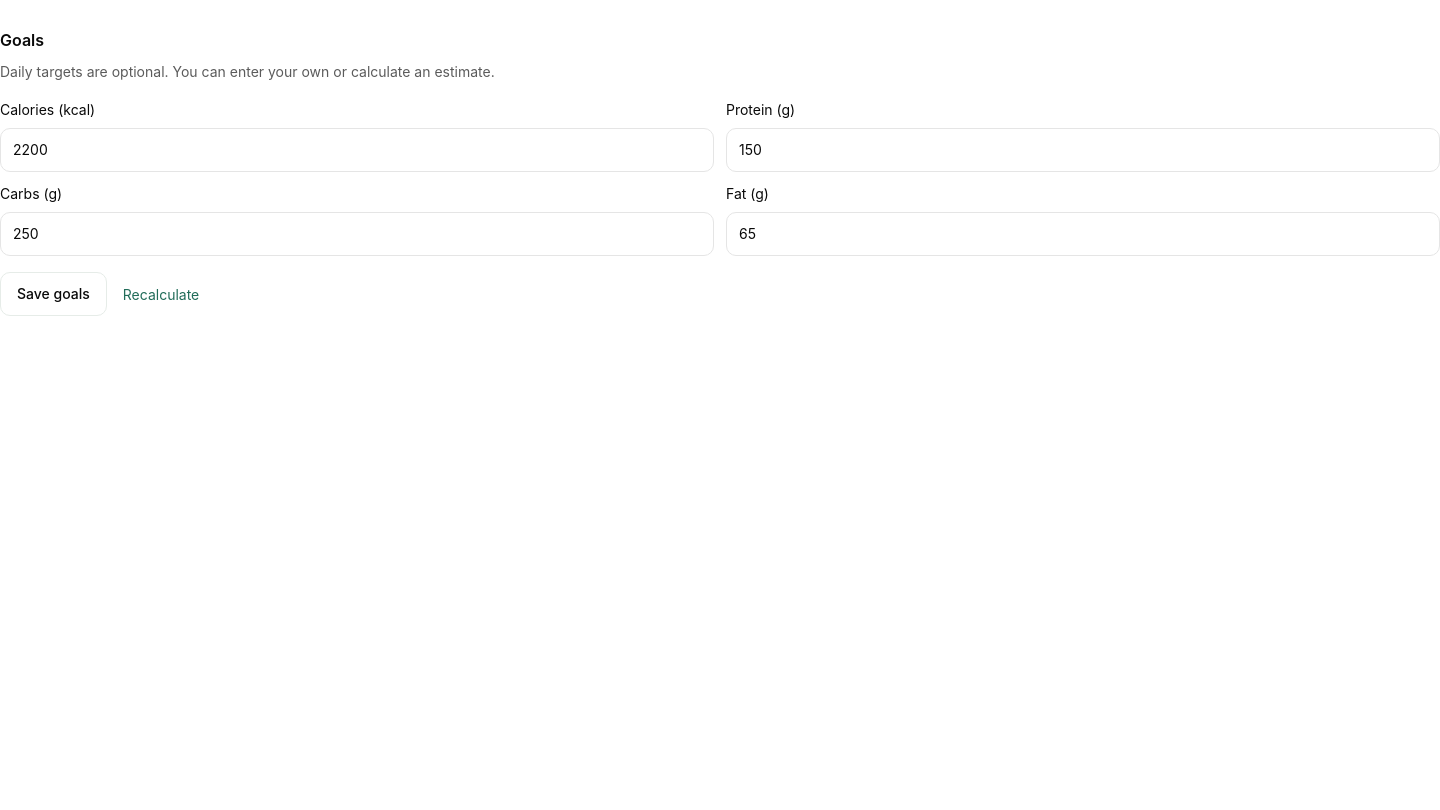
reviews a calculated suggestion without saving targets automatically
This screenshot has width=1440, height=810.
Click the button "Recalculate" at point(161, 294), box x1=119 y1=272 x2=203 y2=316
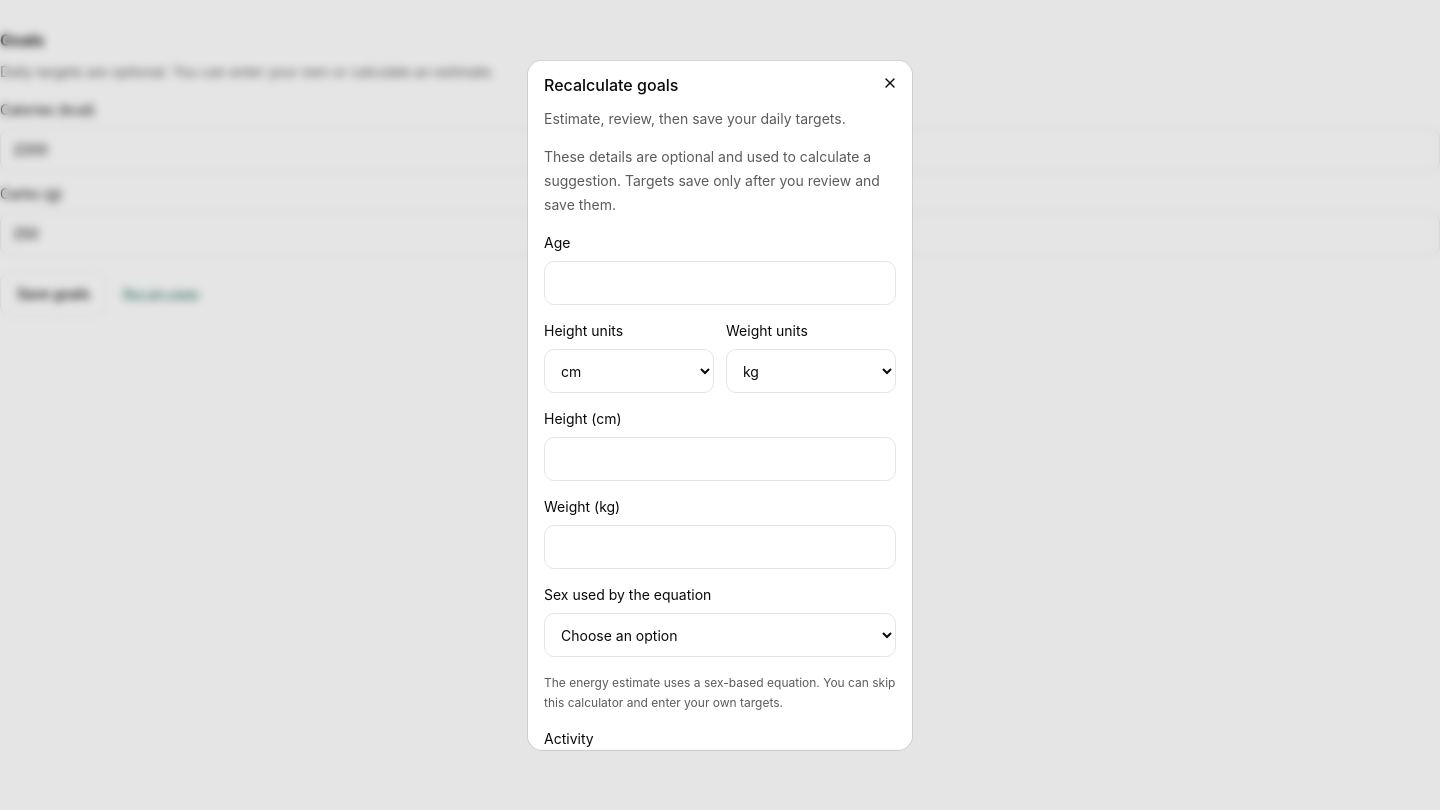
Type "30" into the number field labelled "Age" at point(720, 283), box x1=544 y1=261 x2=896 y2=305
Type "175" into the number field labelled "Height (cm)" at point(720, 459), box x1=544 y1=437 x2=896 y2=481
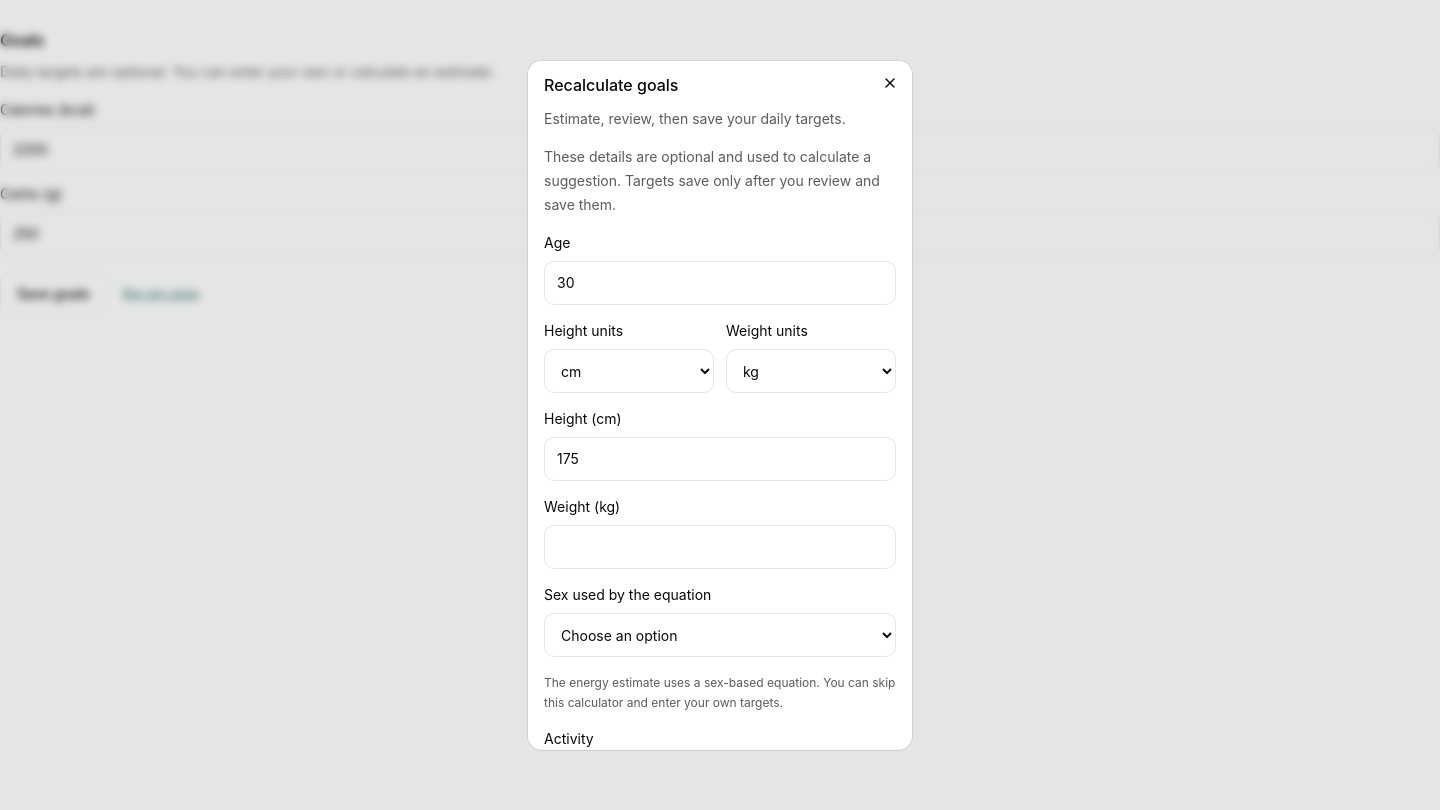
Type "75" into the number field labelled "Weight" at point(720, 547), box x1=544 y1=525 x2=896 y2=569
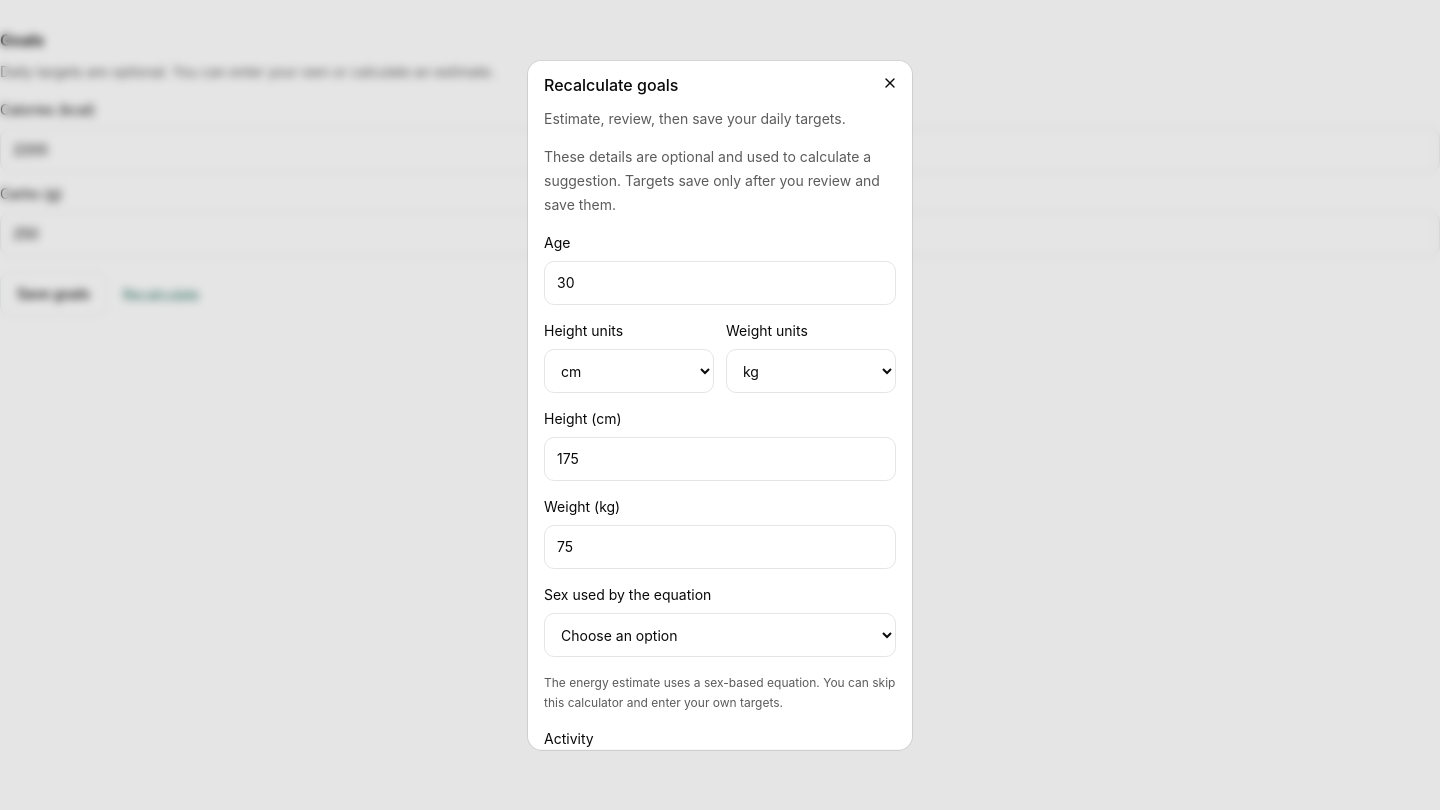
Select "Male" in the dropdown labelled "Sex used by the equation" at point(720, 635), box x1=544 y1=613 x2=896 y2=657
(page scrolled)
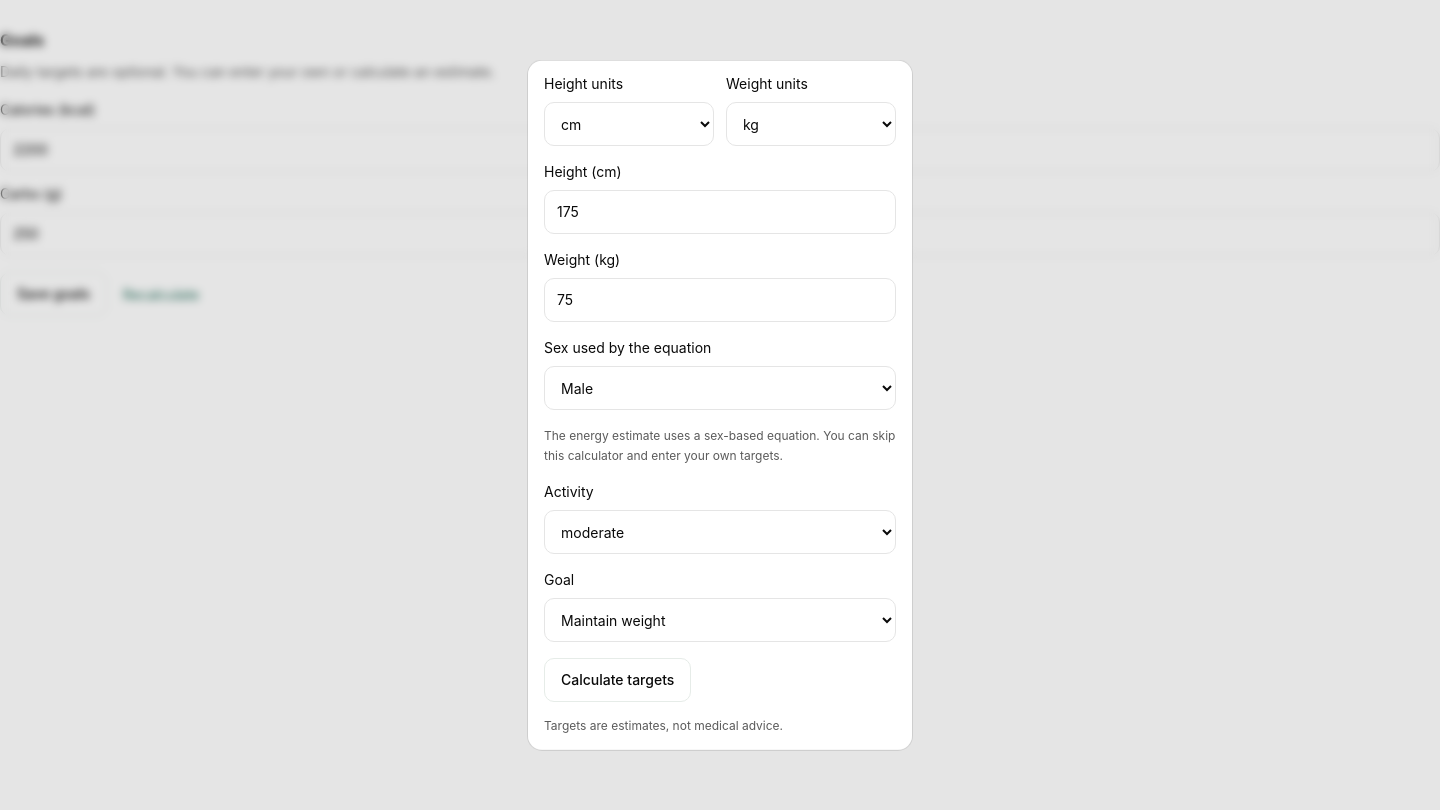
Click the button "Calculate targets" at point(618, 680), box x1=544 y1=658 x2=691 y2=702
(page scrolled)
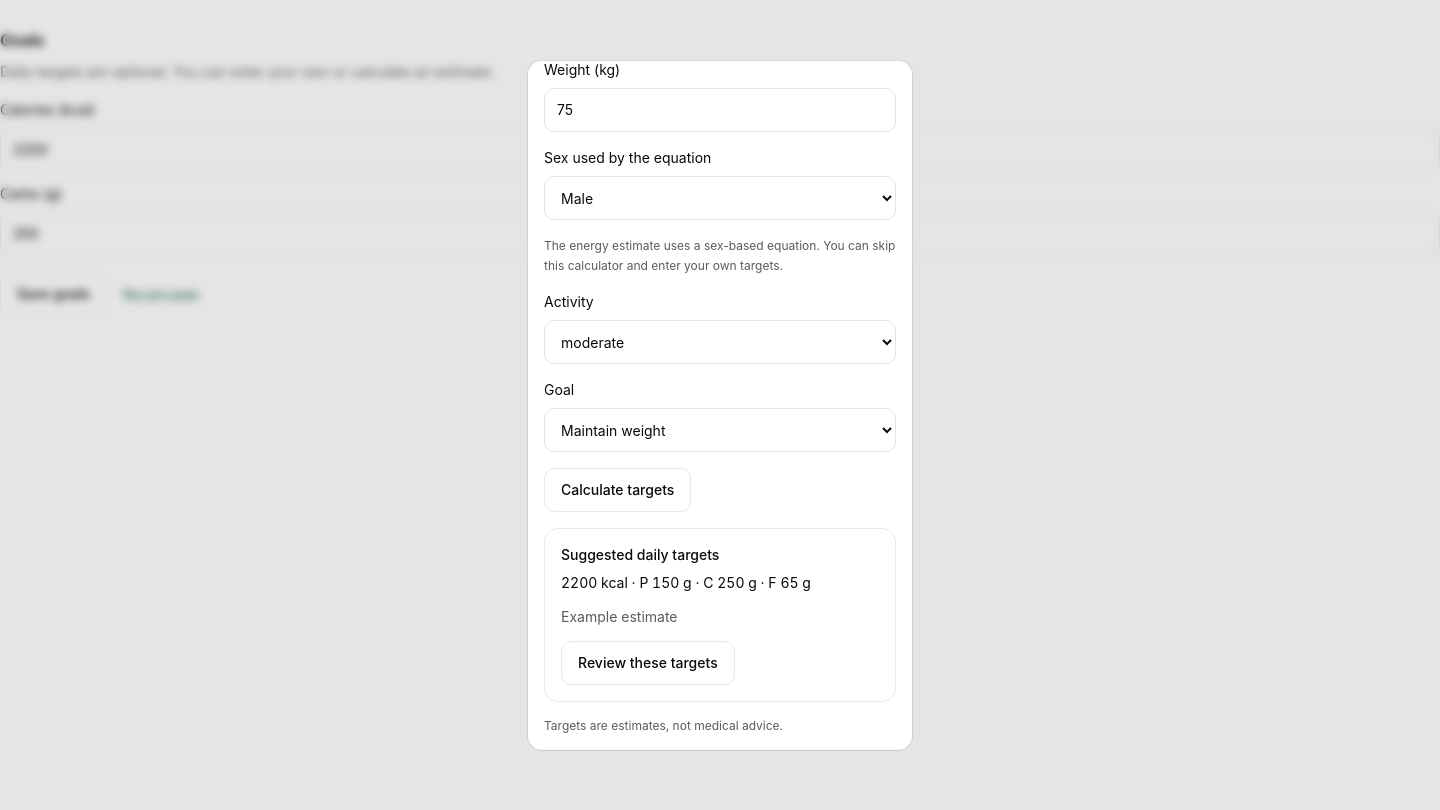
Click the button "Review these targets" at point(648, 663), box x1=561 y1=641 x2=735 y2=685
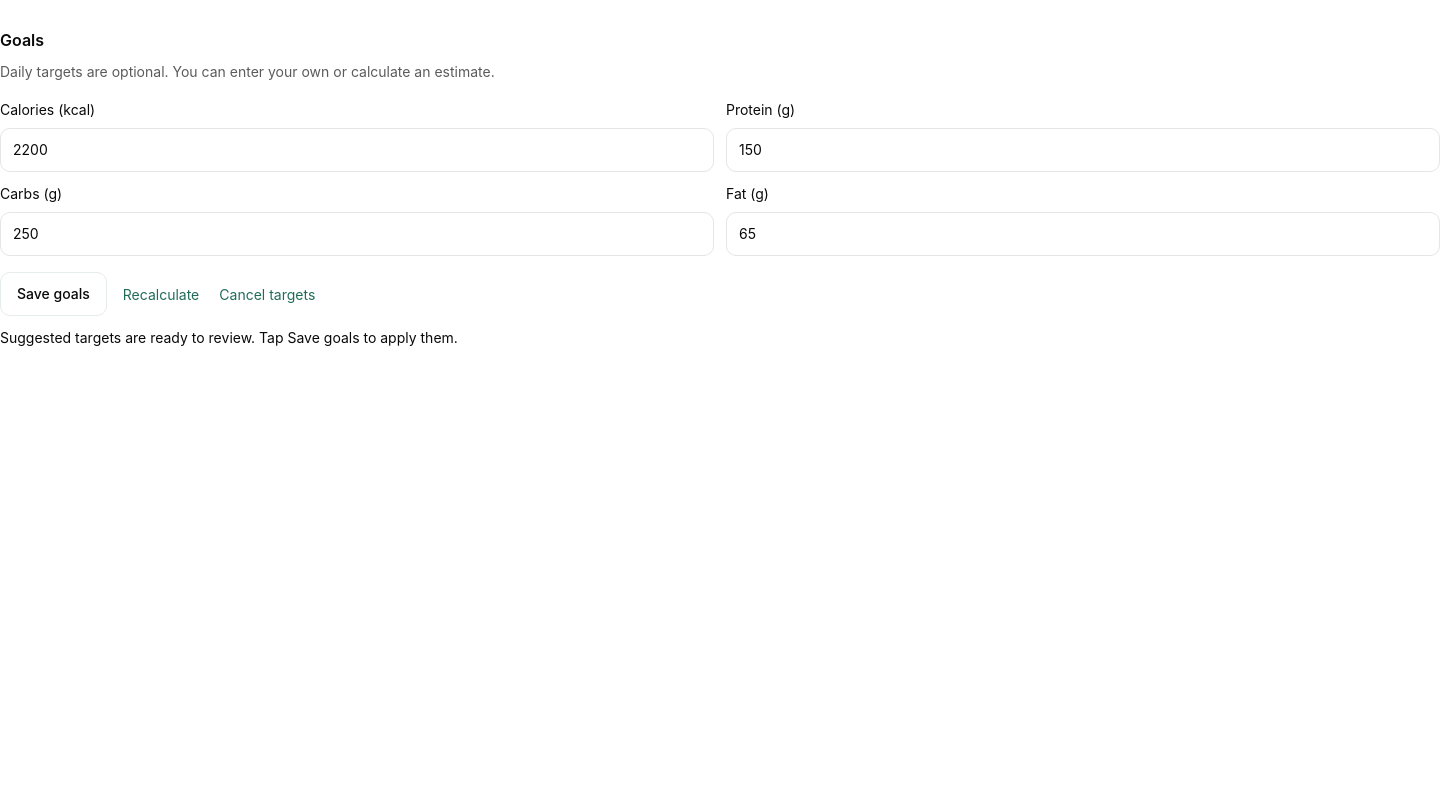
Result: the text "Suggested targets are ready to review. Tap Save goals to apply them." is shown at x1=0 y1=329 x2=458 y2=346
